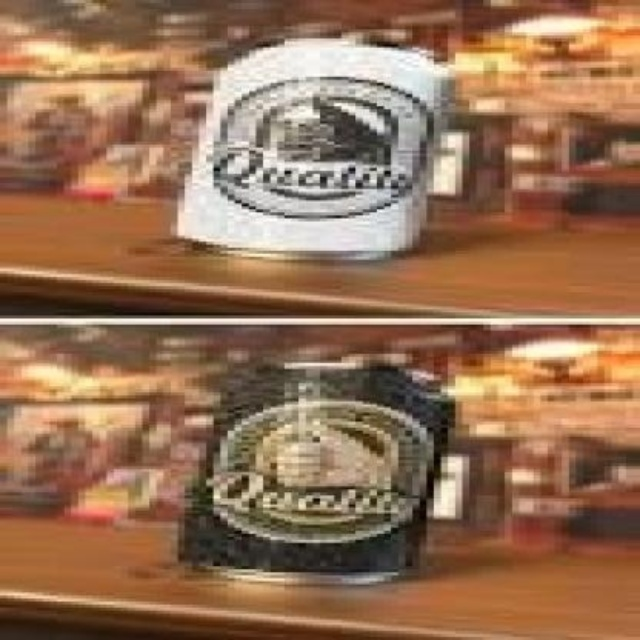trash: (180, 355, 451, 569), (177, 38, 442, 255)
